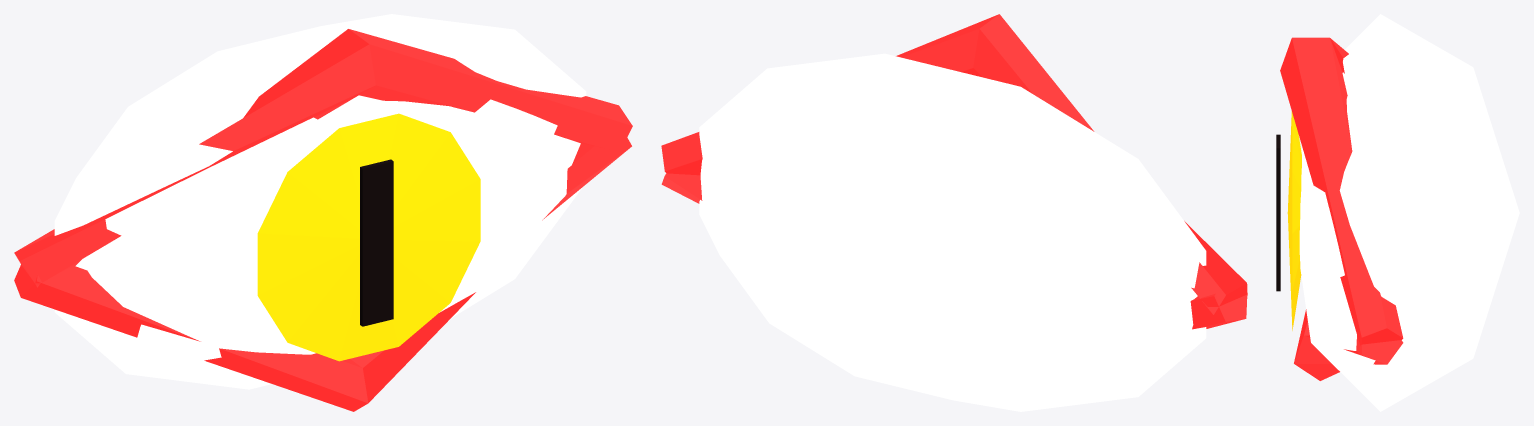
File: eye.glb
The picture shows the model from 3 angles, left to right: view 1: azimuth 30°, elevation 25°; view 2: azimuth 150°, elevation 25°; view 3: azimuth 270°, elevation 25°; orthographic projection. The views are drawn at different scales.
Visible parts, largest first — view 1: eye_mesh; view 2: eye_mesh; view 3: eye_mesh.
Part boxes in pixels (left/top/right/bottom): eye_mesh: left=14, top=14, right=632, bottom=411; eye_mesh: left=661, top=14, right=1247, bottom=411; eye_mesh: left=1276, top=14, right=1519, bottom=411.
Bounding box in the file's own units: 1.37 × 0.8166 × 0.525.
